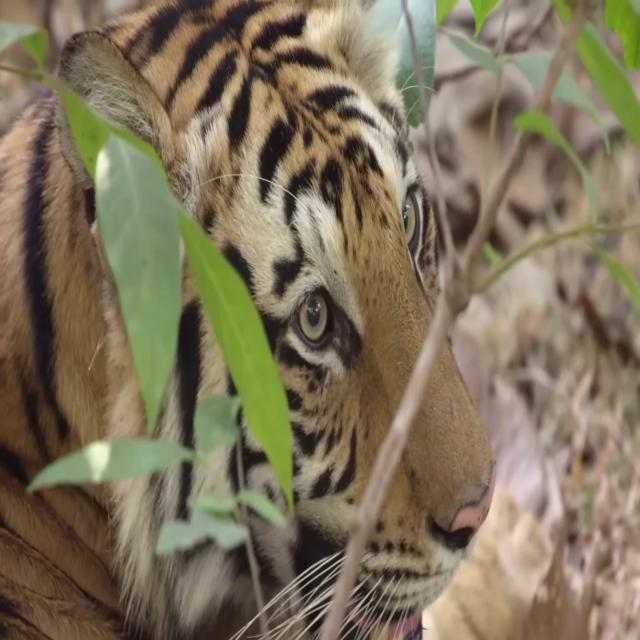tiger: (0, 0, 498, 640)
